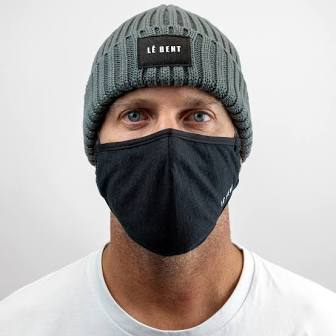FaceMask: (95, 129, 240, 257)
